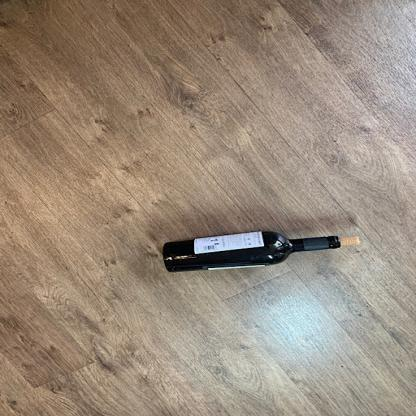trash: (161, 223, 354, 276)
